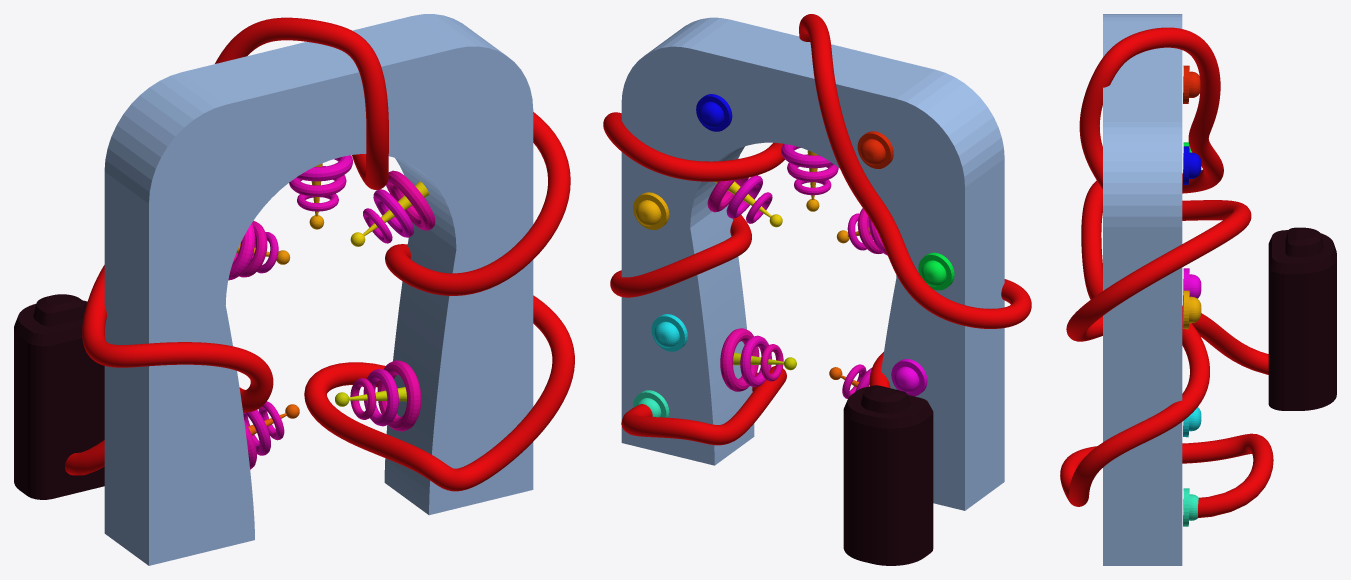
Rendered from portal1.fbx.
3 views of the same model, side by side, from view 1: azimuth 30°, elevation 25°; view 2: azimuth 150°, elevation 25°; view 3: azimuth 270°, elevation 25° (orthographic). The views are drawn at different scales.
Parts seen in each view (by area): view 1: Portal, NurbsPath, Cube, Pierscien.014, Pierscien.002, Pierscien.013, Pierscien.001, Pierscien.011, Pierscien.010, Pierscien.006, Pierscien.012, Pierscien.007 (+1 smaller); view 2: Portal, NurbsPath, Cube, Pierscien.014, Cylinder, Cylinder.002, Cylinder.004, Cylinder.003, Cylinder.006, Cylinder.005, Pierscien.013, Pierscien.001 (+5 smaller); view 3: Portal, NurbsPath, Cube, Cylinder.002, Cylinder.003, Cylinder.004, Cylinder.001, Cylinder.006, Cylinder.
Boxes of the visible parts, x1,y1,x2,y2 form: Portal: [104, 14, 533, 565]; NurbsPath: [65, 17, 574, 491]; Cube: [14, 294, 104, 499]; Pierscien.014: [377, 360, 421, 431]; Pierscien.002: [386, 170, 435, 230]; Pierscien.013: [363, 368, 398, 426]; Pierscien.001: [373, 189, 413, 237]; Pierscien.011: [296, 155, 352, 181]; Pierscien.010: [289, 165, 346, 196]; Pierscien.006: [228, 223, 255, 280]; Pierscien.012: [350, 378, 376, 419]; Pierscien.007: [233, 221, 267, 277]; Portal: [621, 17, 1004, 510]; NurbsPath: [603, 14, 1031, 445]; Cube: [843, 385, 933, 565]; Pierscien.014: [720, 328, 759, 391]; Cylinder: [651, 314, 687, 351]; Cylinder.002: [633, 192, 669, 229]; Cylinder.004: [857, 131, 893, 168]; Cylinder.003: [696, 94, 732, 131]; Cylinder.006: [891, 359, 927, 396]; Cylinder.005: [918, 252, 954, 290]; Pierscien.013: [740, 335, 771, 386]; Pierscien.001: [726, 175, 762, 218]; Portal: [1103, 14, 1182, 565]; NurbsPath: [1060, 27, 1273, 517]; Cube: [1268, 227, 1336, 410]; Cylinder.002: [1183, 290, 1201, 329]; Cylinder.003: [1183, 146, 1201, 184]; Cylinder.004: [1183, 65, 1200, 103]; Cylinder.001: [1183, 488, 1198, 526]; Cylinder.006: [1183, 268, 1201, 305]; Cylinder: [1183, 407, 1201, 437].
Bounding box in the file's own units: 12.1 × 12.46 × 6.99.
